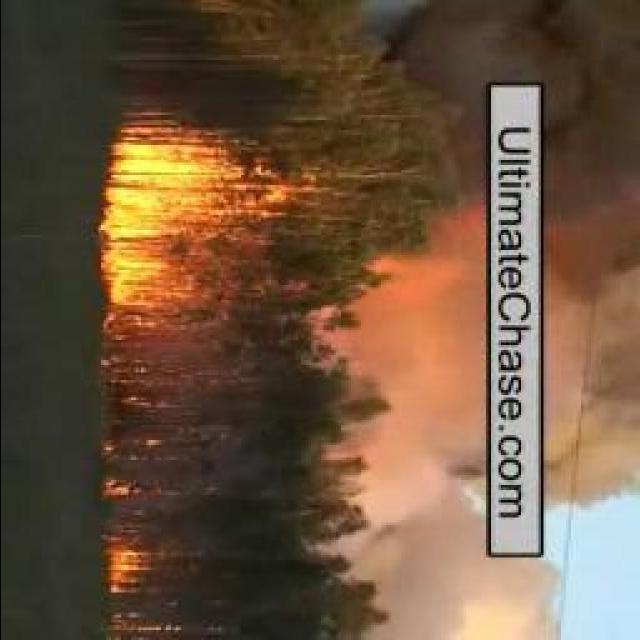Fire: (102, 126, 238, 314), (102, 316, 152, 404), (94, 432, 154, 498), (108, 541, 146, 594), (107, 618, 178, 638)
